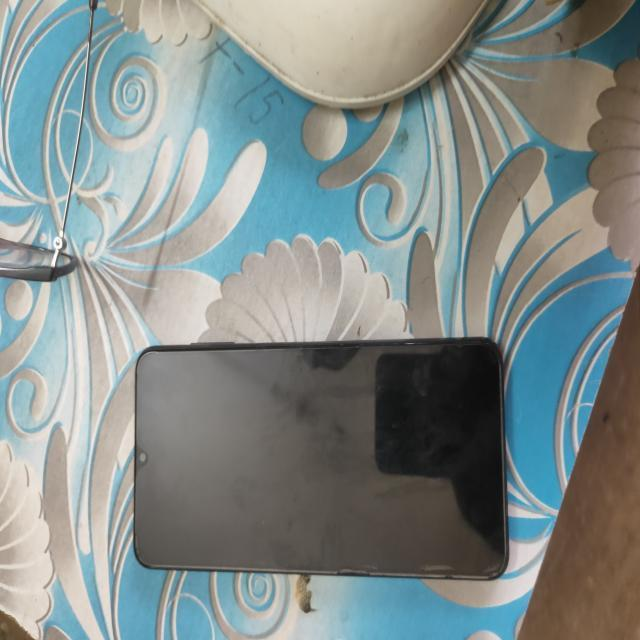Phone: (126, 334, 513, 584)
